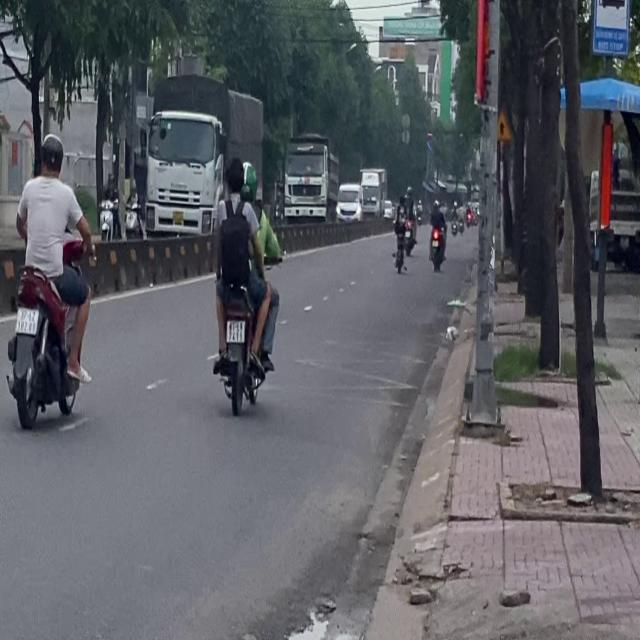helmet: (38, 132, 64, 176), (240, 161, 256, 199)
licenseplate: (6, 130, 91, 430), (208, 156, 280, 414)
motorcyclist: (223, 157, 244, 197)
nohelmet: (16, 307, 38, 333), (227, 320, 245, 342)
